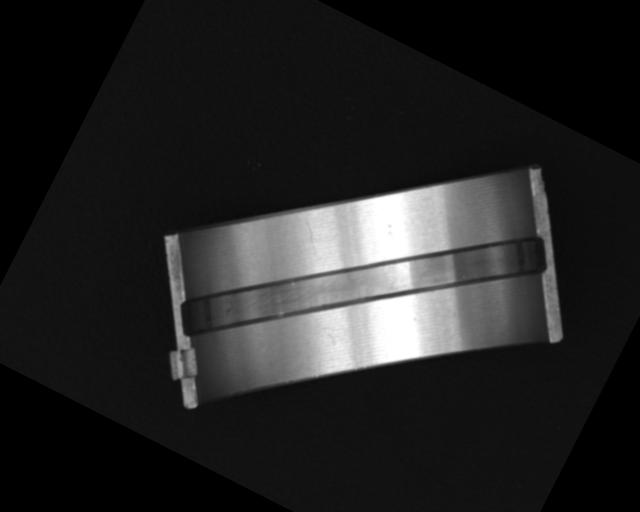gap: (171, 105, 557, 465)
nick: (294, 218, 329, 257)
